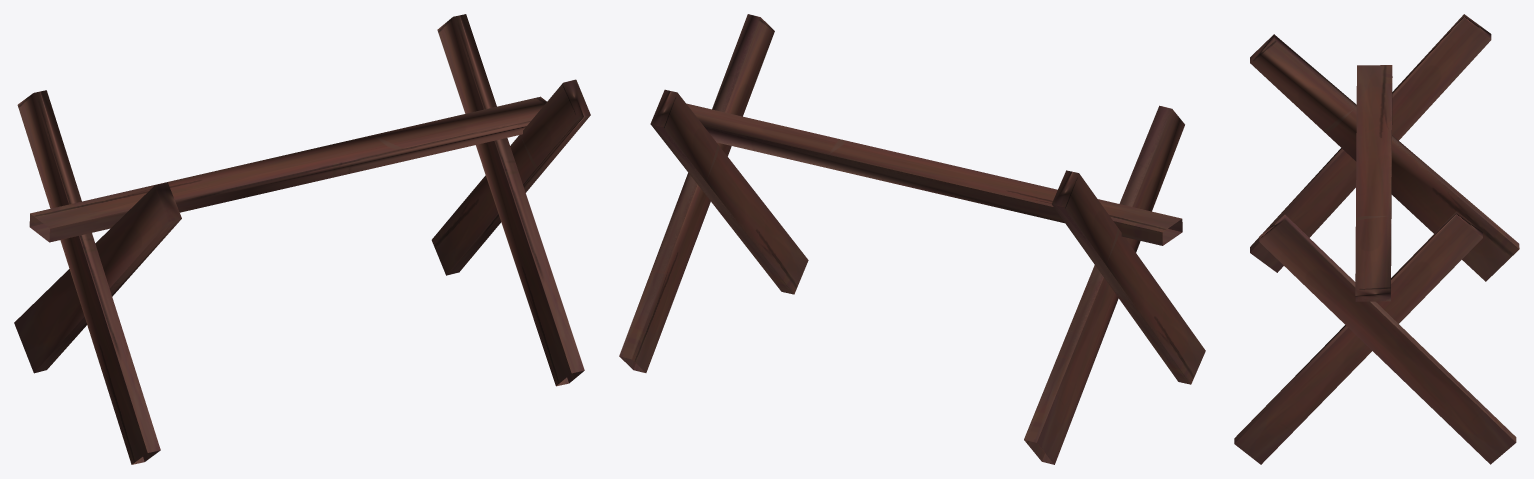
Rendered from EmptyBarricade.fbx.
3 views of the same model, side by side, from view 1: azimuth 30°, elevation 25°; view 2: azimuth 150°, elevation 25°; view 3: azimuth 270°, elevation 25° (orthographic). The views are drawn at different scales.
Visible parts, largest first — view 1: Broken Bridge.002; view 2: Broken Bridge.002; view 3: Broken Bridge.002.
Boxes of the visible parts, box(x1,y1,x2,y2) form: Broken Bridge.002: box(14, 14, 590, 464); Broken Bridge.002: box(619, 14, 1205, 464); Broken Bridge.002: box(1234, 14, 1519, 464).
Size of the model in its own units: 95370 by 55100 by 52537.
1 material, 1 textured.
